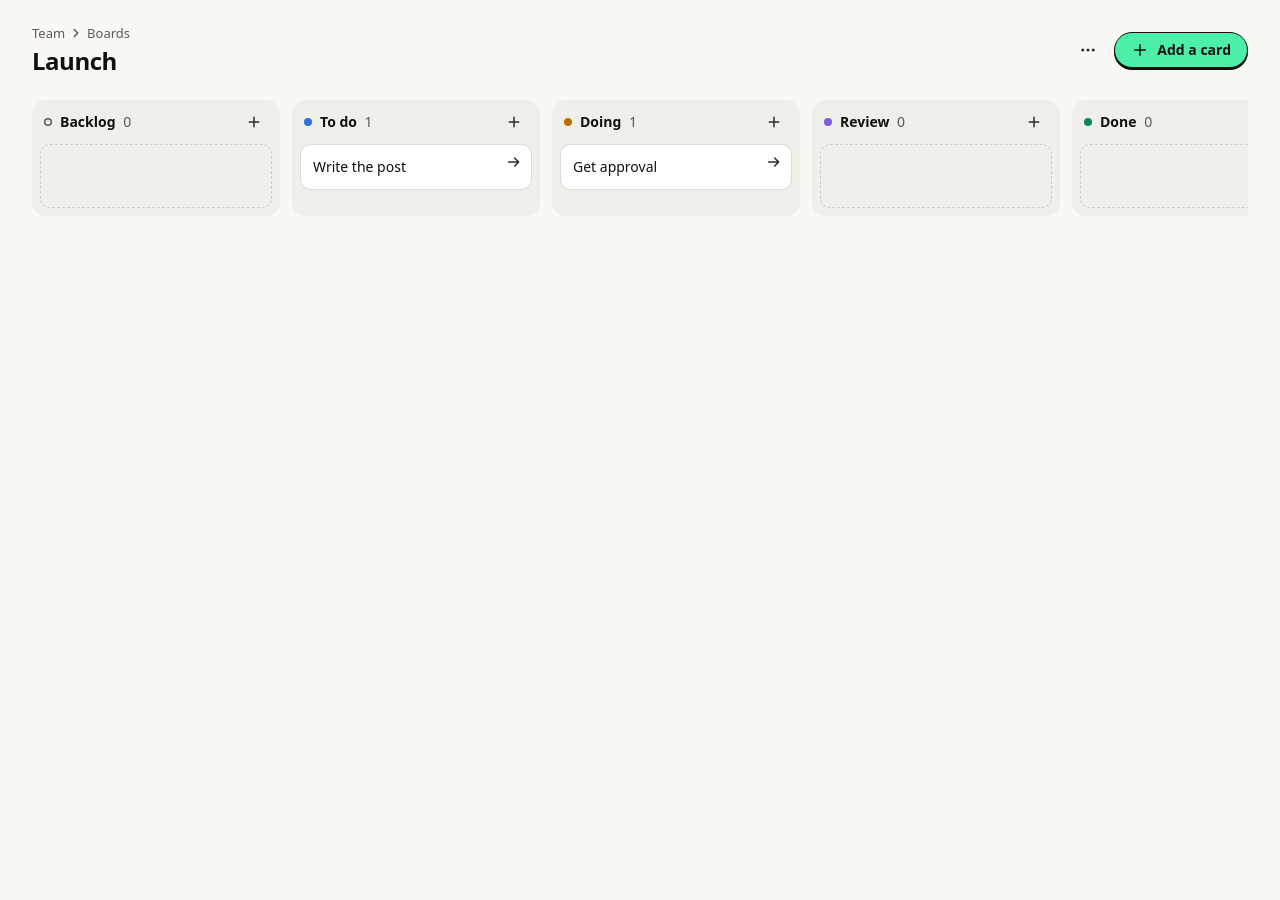
Scenario: shows a mention by the name the server gives for its ID, never by the label in the text
The width and height of the screenshot is (1280, 900).
Click the button "Write the post" at x=416, y=167, box [300,144,532,190]
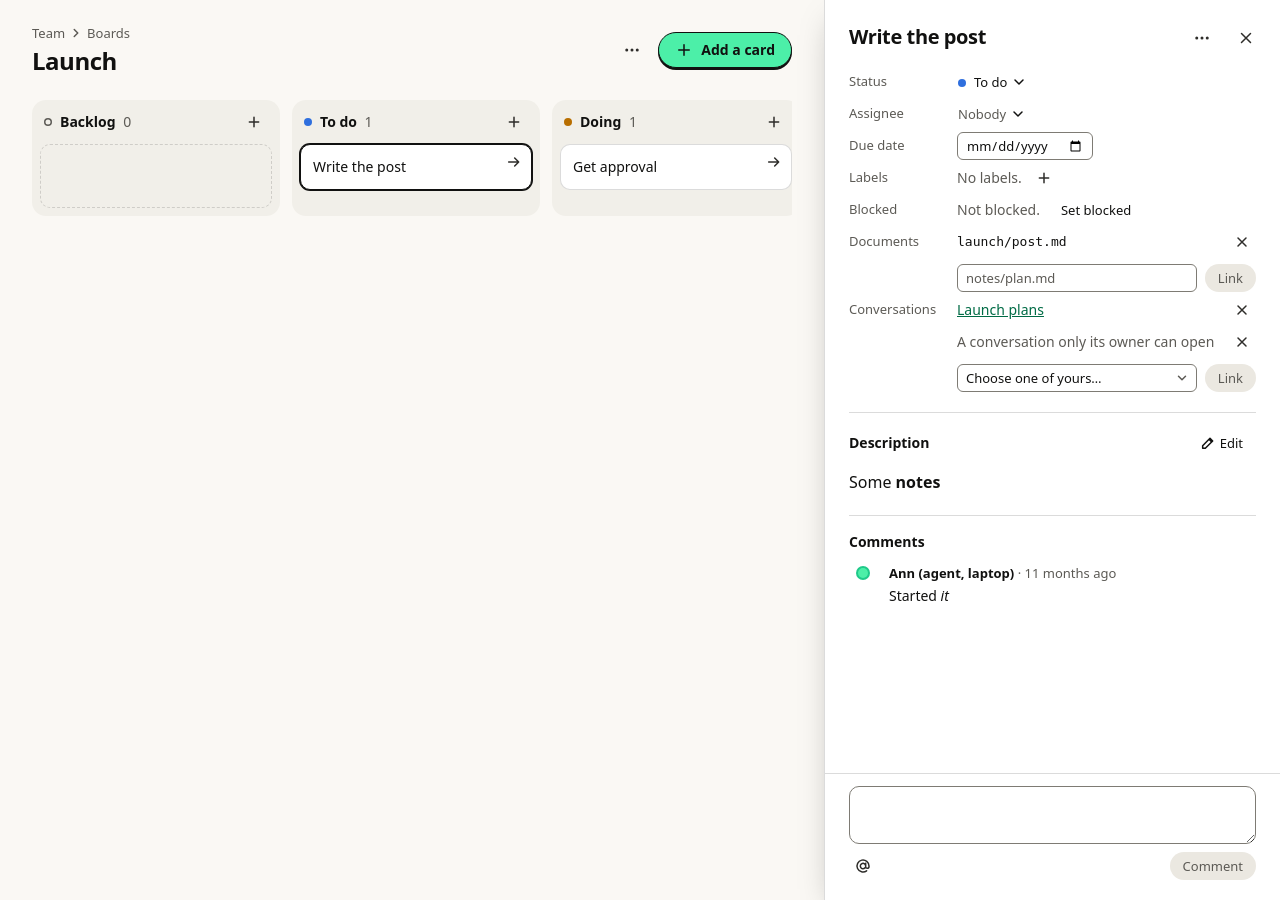
Type "@[Bo](user:77) hi @[Bo](user:5), `@[Mal](user:5)` and \\@[Esc](user:5)" into the text box named "Comment" at x=1052, y=815, box [849,786,1256,844]
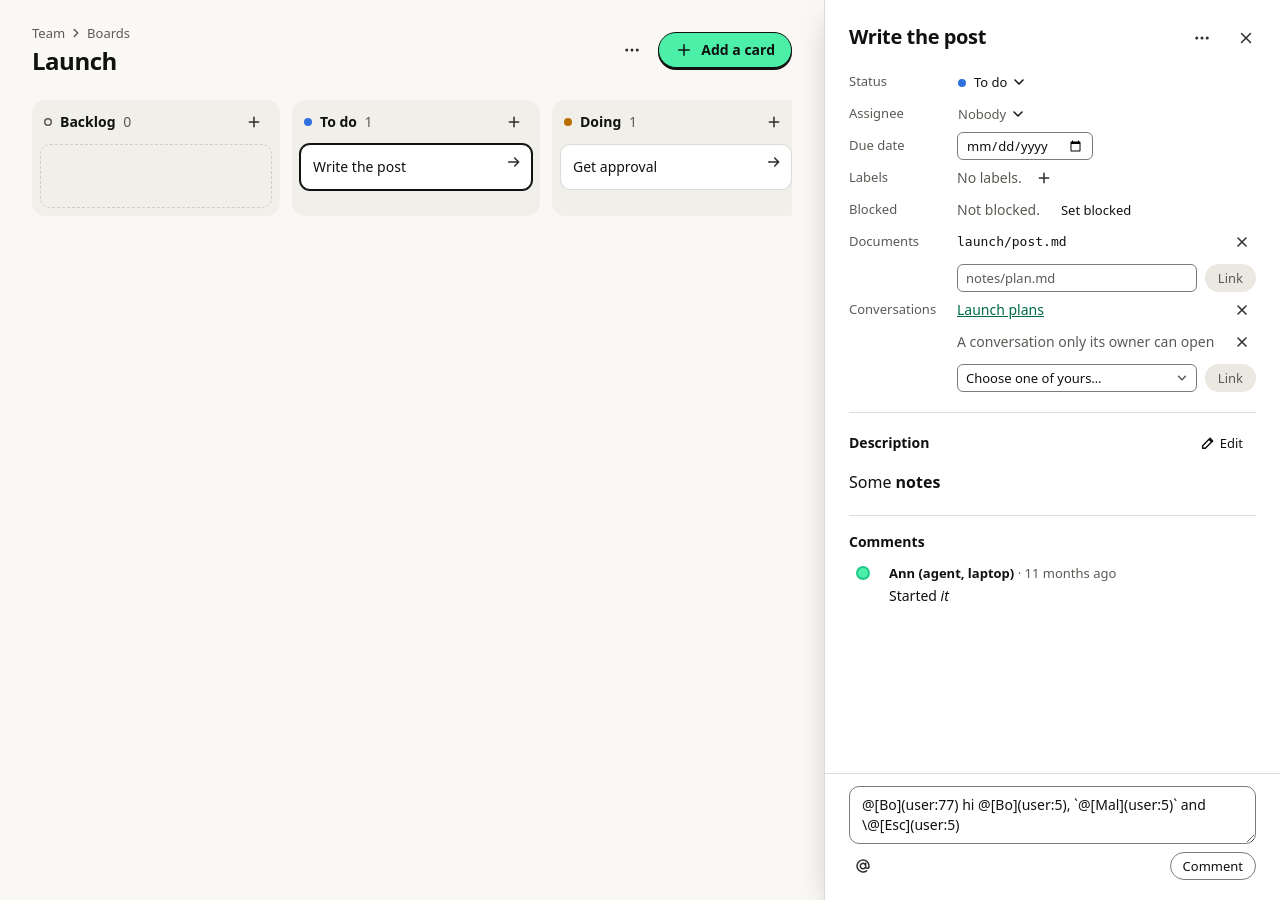
Click the button "Comment" at x=1213, y=866, box [1170,852,1256,880]
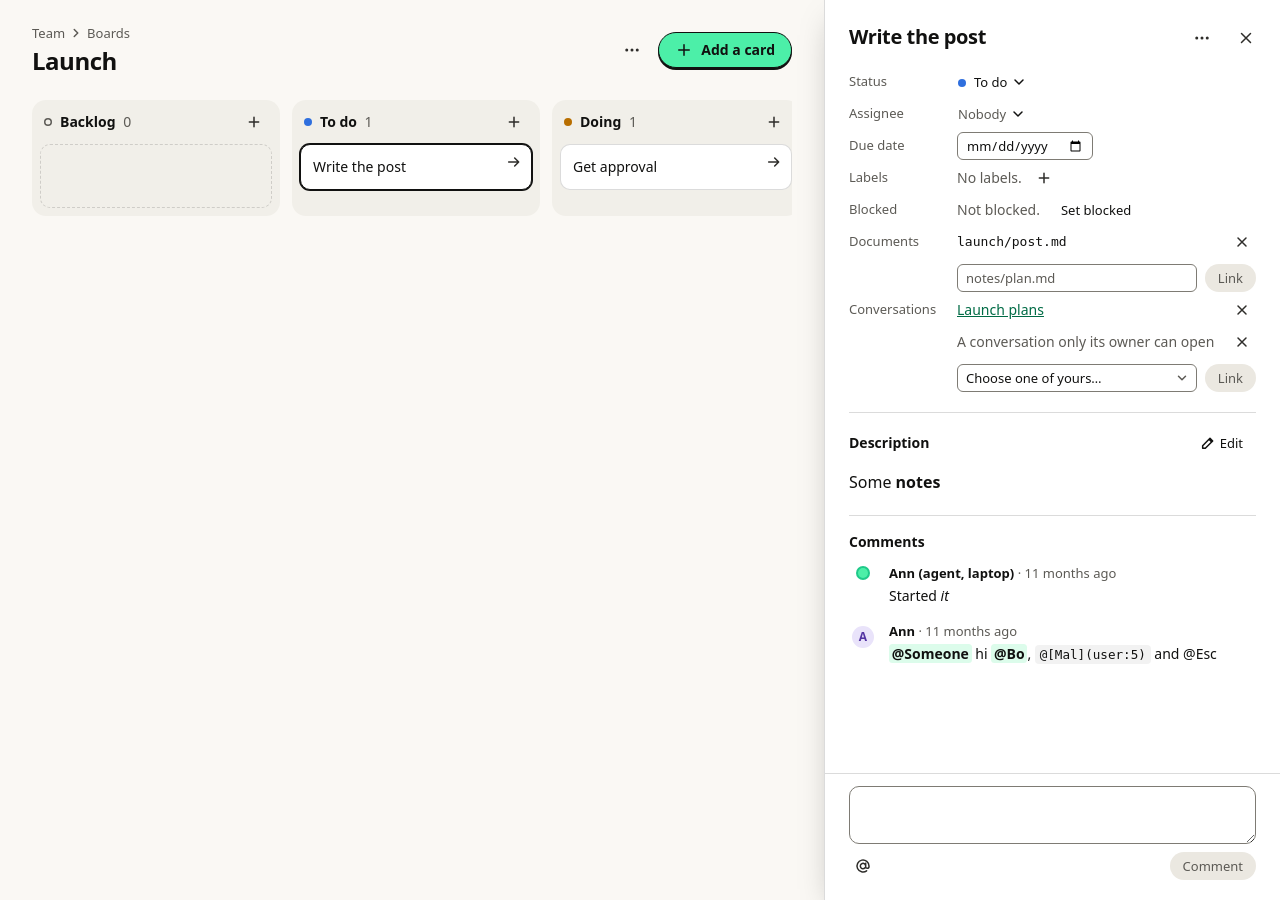
Expected: the 7th list item shows "@Someone hi @Bo,", [849,622,1256,665]
Expected: the 7th list item shows "@[Mal](user:5)", [1040,647,1146,662]
Expected: the number of elements with class "tt-mention" is 2, [889,644,972,663]; [991,644,1028,663]
